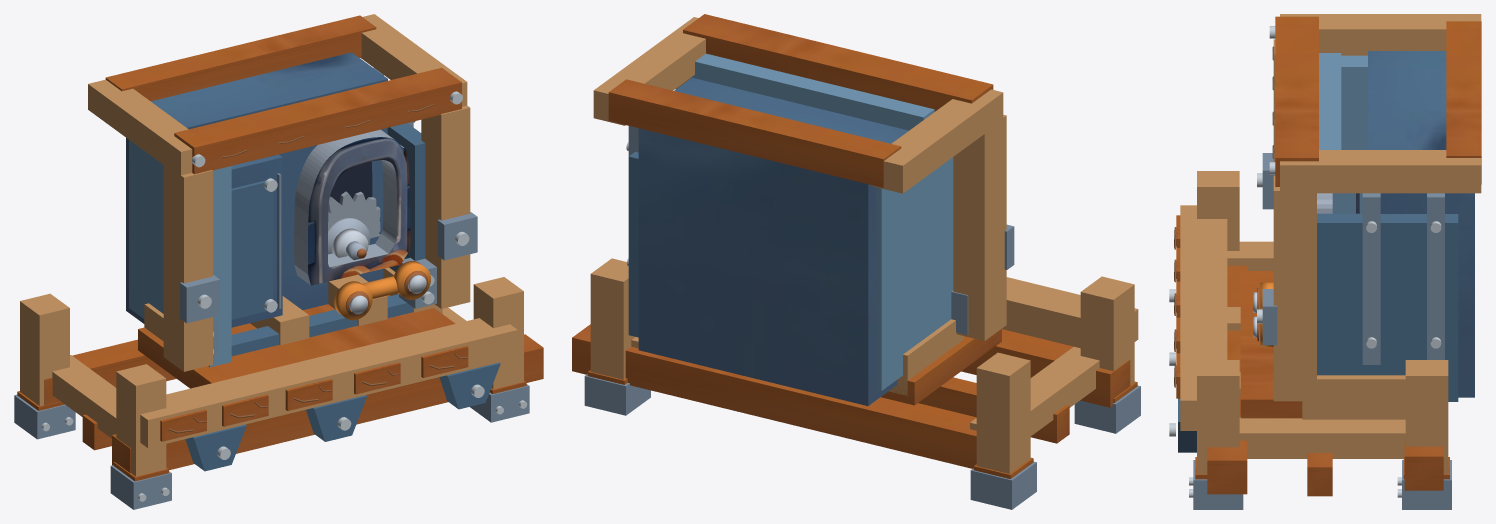
File: T05_ASSEMBLY_01_SAW_BLUE_WOOD_UNAPPROVED.glb
The picture shows the model from 3 angles, left to right: view 1: azimuth 30°, elevation 25°; view 2: azimuth 150°, elevation 25°; view 3: azimuth 270°, elevation 25°; orthographic projection. The views are drawn at different scales.
Visible parts, largest first — view 1: FRONT_HAND_CARVED_CONTINUOUS_CAP, UPPER_FRONT_CONTINUOUS_CARVED_WOOD_EAVE, BLUE_STEEL_HOLLOWED_REAR_CHAMBER_BODY, BLUE_STEEL_SCULPTED_OUTER_LEFT_CASING, UPPER_REAR_TIMBER_EAVE, FRONT_LEFT_VERTICAL_LIGHT_WOOD_JOINERY, FRONT_RIGHT_VERTICAL_LIGHT_WOOD_JOINERY, BODY_REAL_TIMBER_SUPPORT_BEARER, 01_SOURCE_TRACED_FRONT_FORGED_ARCH, CHASSIS_FRONT_HAND_HEWN_LONGITUDINAL_RUNNER, LEFT_FRONT_DARK_INSET_COVER, UPPER_LEFT_TIMBER_EDGE_EAVE (+33 smaller); view 2: BLUE_STEEL_HOLLOWED_REAR_CHAMBER_BODY, CHASSIS_REAR_LONGITUDINAL_RUNNER, BLUE_STEEL_SCULPTED_OUTER_LEFT_CASING, UPPER_REAR_TIMBER_EAVE, UPPER_FRONT_CONTINUOUS_CARVED_WOOD_EAVE, FRONT_LEFT_VERTICAL_LIGHT_WOOD_JOINERY, BLUE_FRONT_TOP_CLEARANCE_SAW_BRIDGE, CARVED_VERTICAL_TIMBER_POST_1, UPPER_LEFT_TIMBER_EDGE_EAVE, CARVED_VERTICAL_TIMBER_POST_0, CARVED_VERTICAL_TIMBER_POST_3, FRONT_HAND_CARVED_CONTINUOUS_CAP (+11 smaller); view 3: BLUE_STEEL_RIGHT_REINFORCED_SIDE_RIB, BLUE_STEEL_HOLLOWED_REAR_CHAMBER_BODY, FRONT_RIGHT_VERTICAL_LIGHT_WOOD_JOINERY, FRONT_HAND_CARVED_CONTINUOUS_CAP, UPPER_RIGHT_TIMBER_EDGE_EAVE, UPPER_FRONT_CONTINUOUS_CARVED_WOOD_EAVE, CROSS_TENON_JOINED_SUPPORT_03, UPPER_LEFT_TIMBER_EDGE_EAVE, UPPER_REAR_TIMBER_EAVE, BODY_REAL_TIMBER_SUPPORT_BEARER, BODY_MACHINE_SUPPORT_COLUMN_3, CARVED_VERTICAL_TIMBER_POST_2 (+15 smaller).
Part boxes in pixels (x1,y1,x2,y2): FRONT_HAND_CARVED_CONTINUOUS_CAP: (140,318,517,447); UPPER_FRONT_CONTINUOUS_CARVED_WOOD_EAVE: (174,67,461,174); BLUE_STEEL_HOLLOWED_REAR_CHAMBER_BODY: (126,52,387,323); BLUE_STEEL_SCULPTED_OUTER_LEFT_CASING: (129,140,231,367); UPPER_REAR_TIMBER_EAVE: (105,15,376,101); FRONT_LEFT_VERTICAL_LIGHT_WOOD_JOINERY: (163,163,212,371); FRONT_RIGHT_VERTICAL_LIGHT_WOOD_JOINERY: (421,105,470,308); BODY_REAL_TIMBER_SUPPORT_BEARER: (138,295,455,388); 01_SOURCE_TRACED_FRONT_FORGED_ARCH: (308,137,410,285); CHASSIS_FRONT_HAND_HEWN_LONGITUDINAL_RUNNER: (112,334,543,473); LEFT_FRONT_DARK_INSET_COVER: (231,180,273,319); UPPER_LEFT_TIMBER_EDGE_EAVE: (88,79,192,177); BLUE_STEEL_HOLLOWED_REAR_CHAMBER_BODY: (638,77,908,405); CHASSIS_REAR_LONGITUDINAL_RUNNER: (572,324,976,468); BLUE_STEEL_SCULPTED_OUTER_LEFT_CASING: (876,157,953,390); UPPER_REAR_TIMBER_EAVE: (608,79,901,187); UPPER_FRONT_CONTINUOUS_CARVED_WOOD_EAVE: (683,14,993,111); FRONT_LEFT_VERTICAL_LIGHT_WOOD_JOINERY: (953,114,1006,340); BLUE_FRONT_TOP_CLEARANCE_SAW_BRIDGE: (690,53,934,130); CARVED_VERTICAL_TIMBER_POST_1: (976,352,1030,473); UPPER_LEFT_TIMBER_EDGE_EAVE: (871,89,1003,193); CARVED_VERTICAL_TIMBER_POST_0: (1080,276,1134,385); CARVED_VERTICAL_TIMBER_POST_3: (590,258,635,379); FRONT_HAND_CARVED_CONTINUOUS_CAP: (1002,277,1138,348); BLUE_STEEL_RIGHT_REINFORCED_SIDE_RIB: (1317,213,1458,401); BLUE_STEEL_HOLLOWED_REAR_CHAMBER_BODY: (1368,51,1474,397); FRONT_RIGHT_VERTICAL_LIGHT_WOOD_JOINERY: (1273,175,1316,401); FRONT_HAND_CARVED_CONTINUOUS_CAP: (1180,205,1227,430); UPPER_RIGHT_TIMBER_EDGE_EAVE: (1280,150,1481,193); UPPER_FRONT_CONTINUOUS_CARVED_WOOD_EAVE: (1275,16,1318,186); CROSS_TENON_JOINED_SUPPORT_03: (1239,417,1405,458); UPPER_LEFT_TIMBER_EDGE_EAVE: (1280,14,1481,55); UPPER_REAR_TIMBER_EAVE: (1446,21,1481,184); BODY_REAL_TIMBER_SUPPORT_BEARER: (1240,271,1302,418); BODY_MACHINE_SUPPORT_COLUMN_3: (1302,375,1405,419); CARVED_VERTICAL_TIMBER_POST_2: (1197,360,1239,474).
Size of the model in its own units: 5.74 by 4.09 by 3.45.
15 materials, 3 textured.
